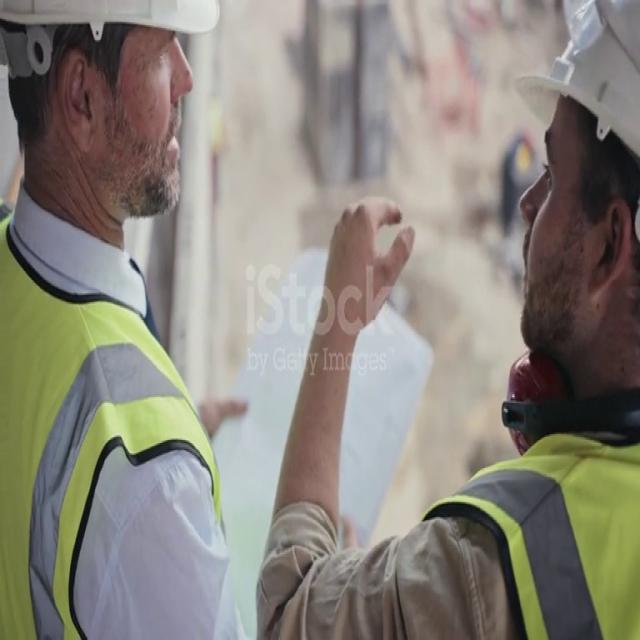capacete: (0, 3, 249, 131), (498, 4, 640, 186)
